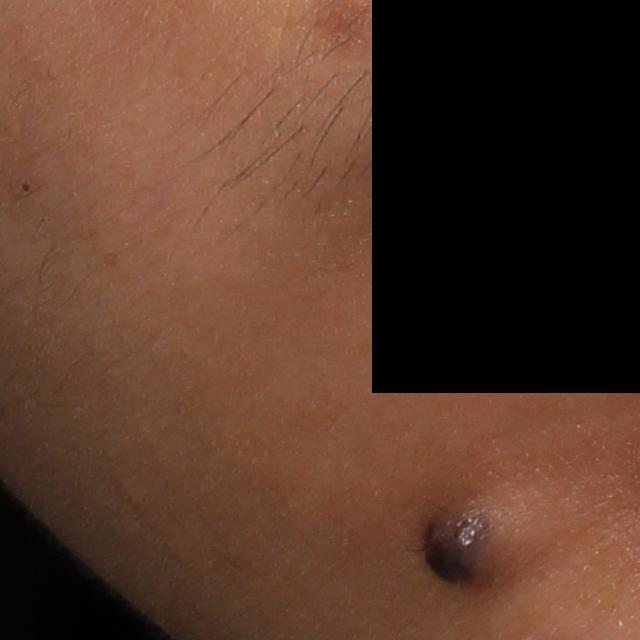comedo: (16, 180, 35, 195)
nevus: (416, 486, 540, 593)
